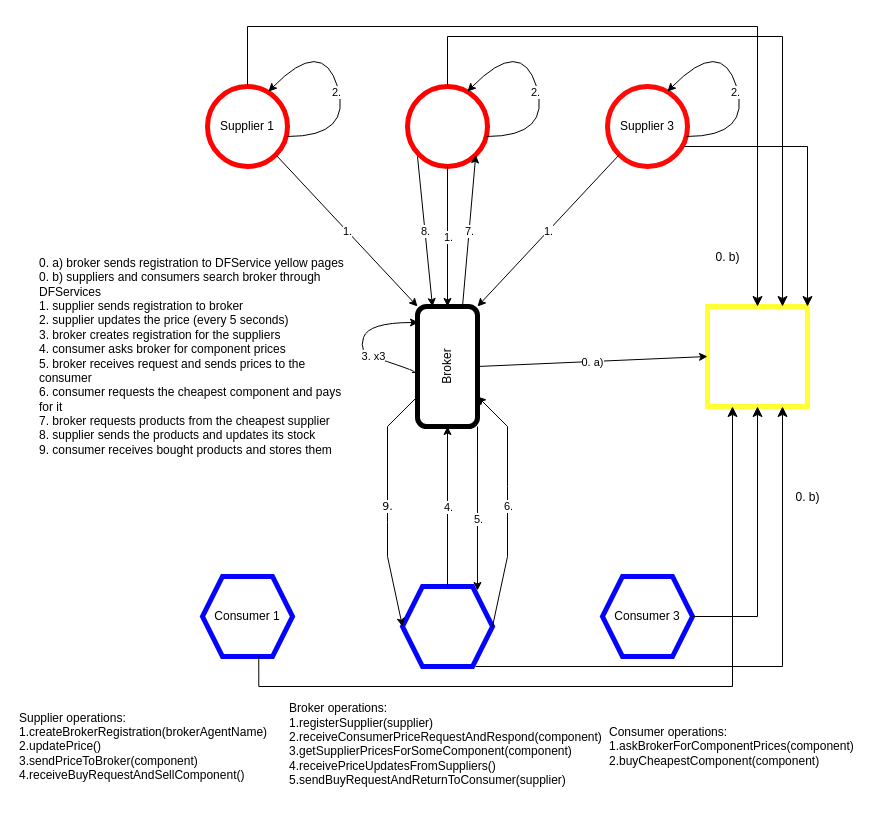
Some shapes in this 874 by 819 pixel diagram are drawn without their labels. The centre of each missing label's shape, as x and y in pixels:
"Consumer 2" goes at pixel 447 626.
"DFService" goes at pixel 757 356.
"Supplier 2" goes at pixel 447 126.
